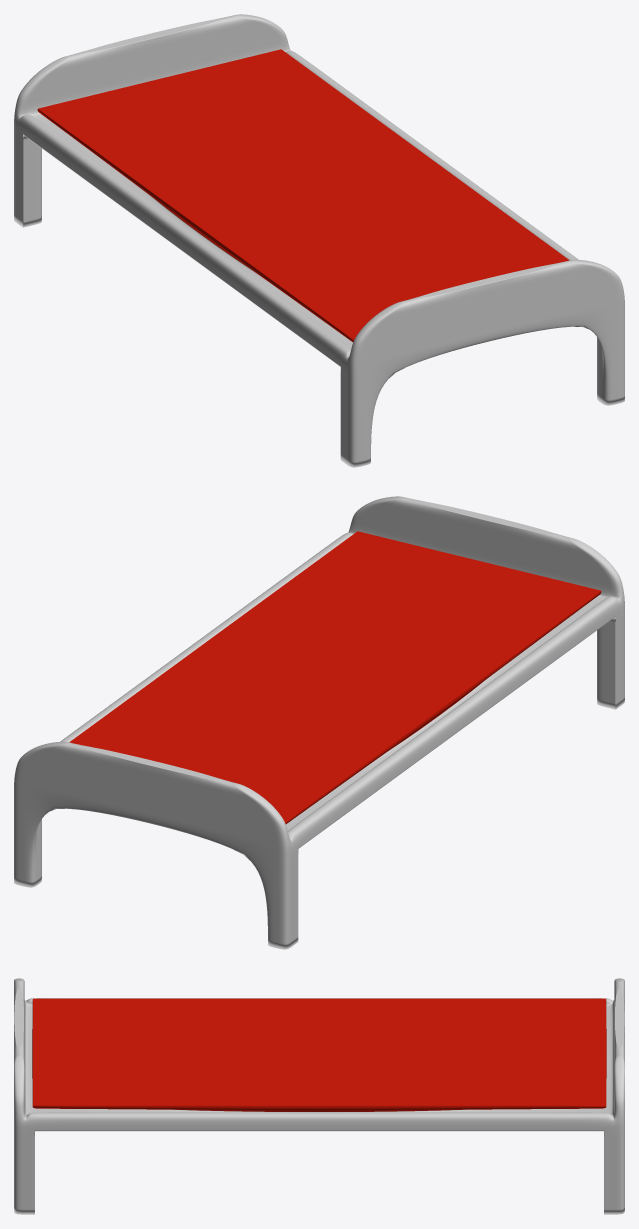
The model's file is Bed.fbx.
3 renders of one model, top to bottom at view 1: azimuth 30°, elevation 25°; view 2: azimuth 150°, elevation 25°; view 3: azimuth 270°, elevation 25°, orthographic. The views are drawn at different scales.
Parts seen in each view (by area): view 1: Cube; view 2: Cube; view 3: Cube.
Boxes of the visible parts, box(x1,y1,x2,y2) form: Cube: box(14, 14, 624, 467); Cube: box(14, 496, 624, 949); Cube: box(14, 978, 624, 1214).
Bounding box in the file's own units: 93.17 × 49.12 × 200.
